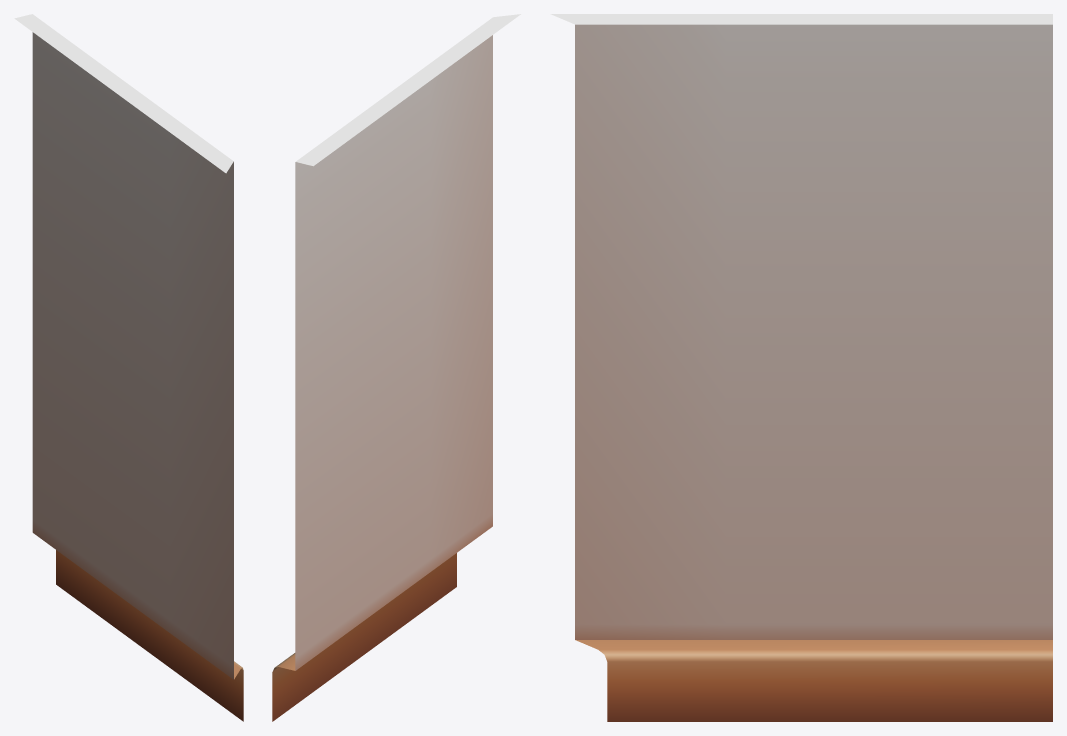
File: WhiteWall_LeftCorner.fbx
3 views of the same model, side by side, from view 1: azimuth 30°, elevation 25°; view 2: azimuth 150°, elevation 25°; view 3: azimuth 270°, elevation 25° (orthographic). The views are drawn at different scales.
Parts seen in each view (by area): view 1: WhiteWall_LeftCorner; view 2: WhiteWall_LeftCorner; view 3: WhiteWall_LeftCorner.
Boxes of the visible parts, x1=… form: WhiteWall_LeftCorner: x1=14, y1=14, x2=243, y2=721; WhiteWall_LeftCorner: x1=272, y1=14, x2=520, y2=721; WhiteWall_LeftCorner: x1=550, y1=14, x2=1052, y2=721.
Size of the model in its own units: 3 by 0.2276 by 2.
